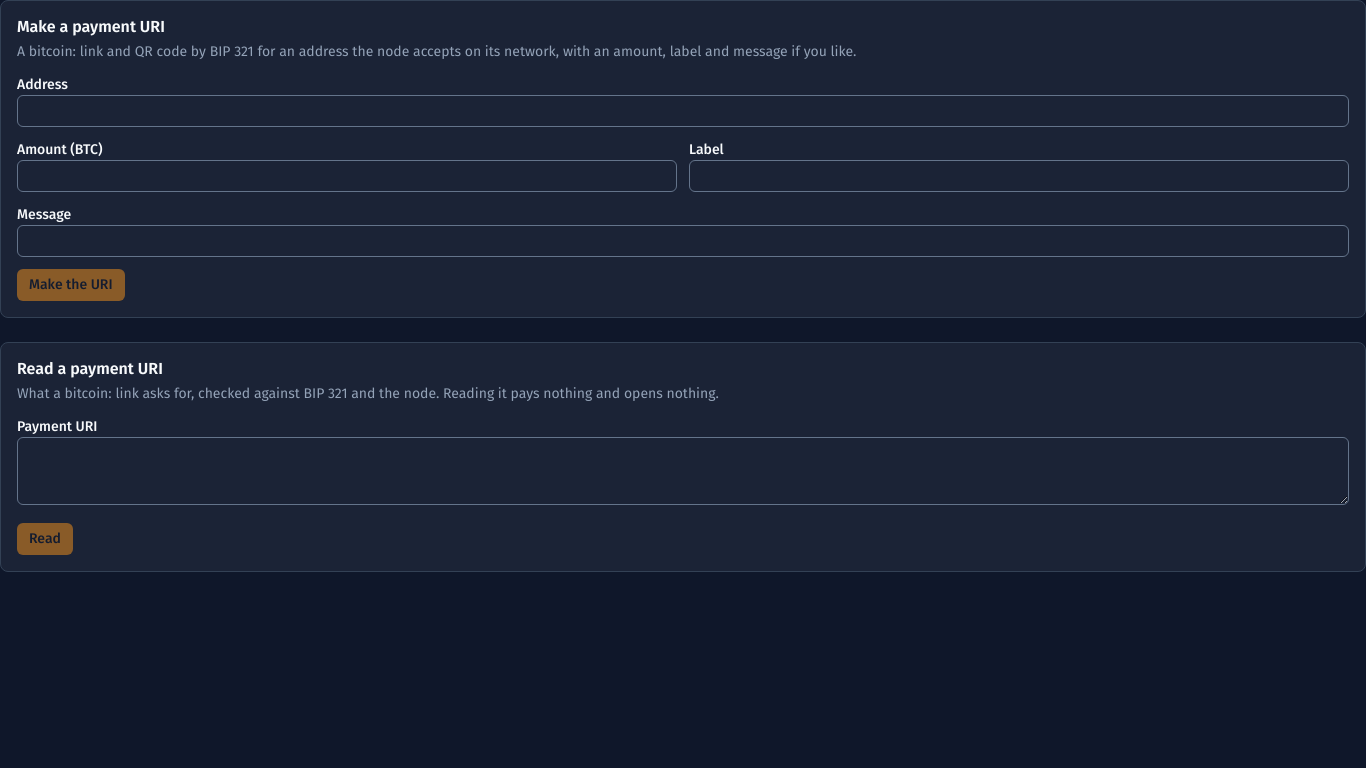
payment URIs › refuses an amount below a satoshi before asking the node
In the field labelled "Amount (BTC)": point(347, 176) [17,160,677,192], type "0.000000001"
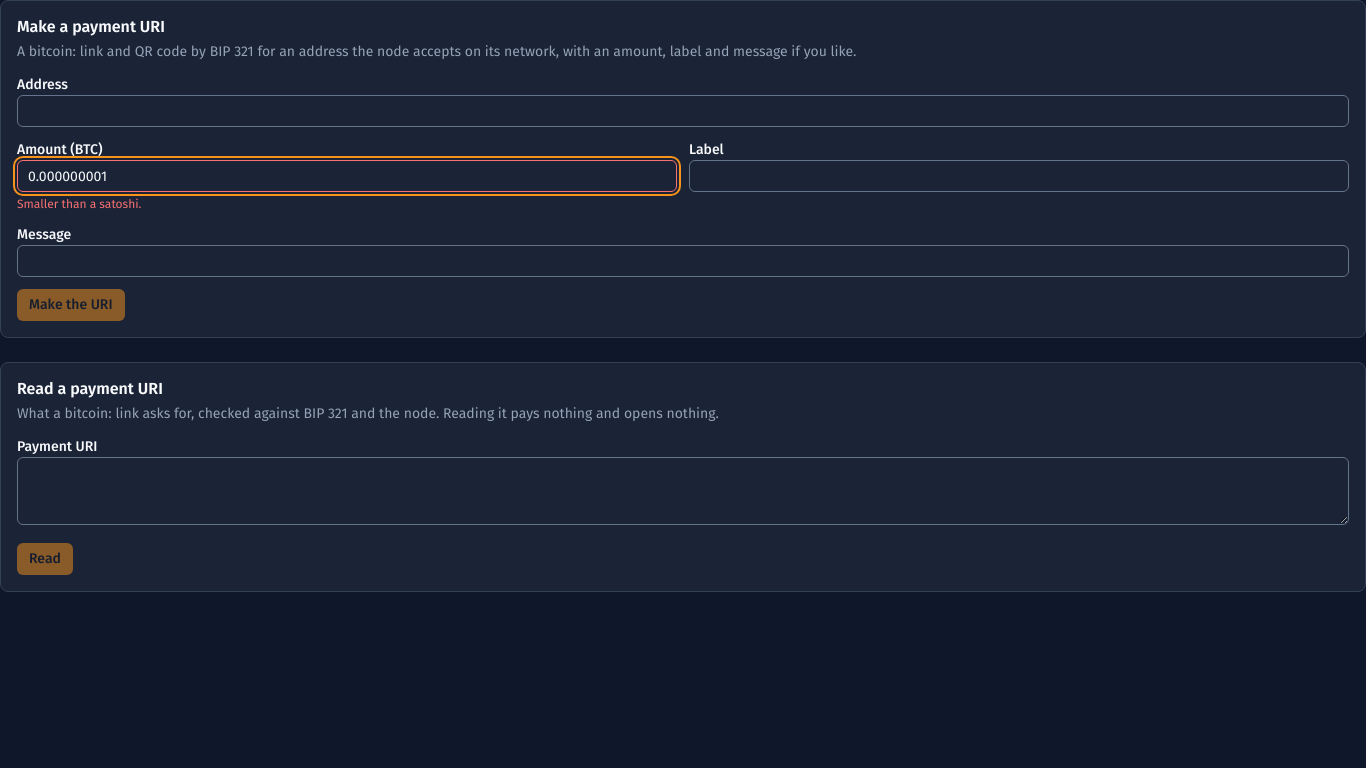
Expected: the button "Make the URI" is disabled, [17,289,124,321]
Expected: the text "Smaller than a satoshi." is shown, [17,197,142,211]
